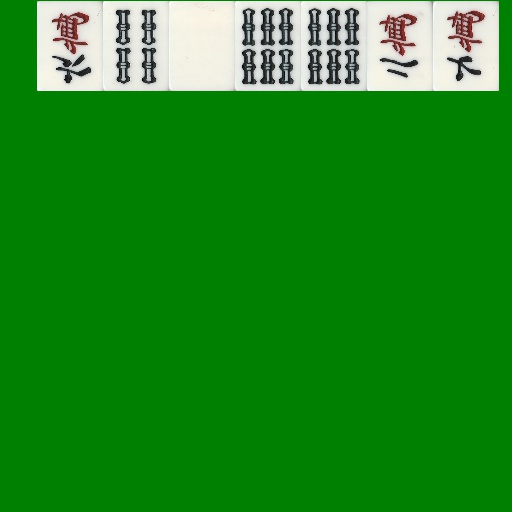2m: (367, 1, 433, 91)
4s: (103, 1, 169, 91)
6m: (37, 1, 103, 91)
6s: (235, 1, 301, 91), (301, 1, 367, 91)
7m: (433, 1, 499, 91)
white: (169, 1, 235, 91)
